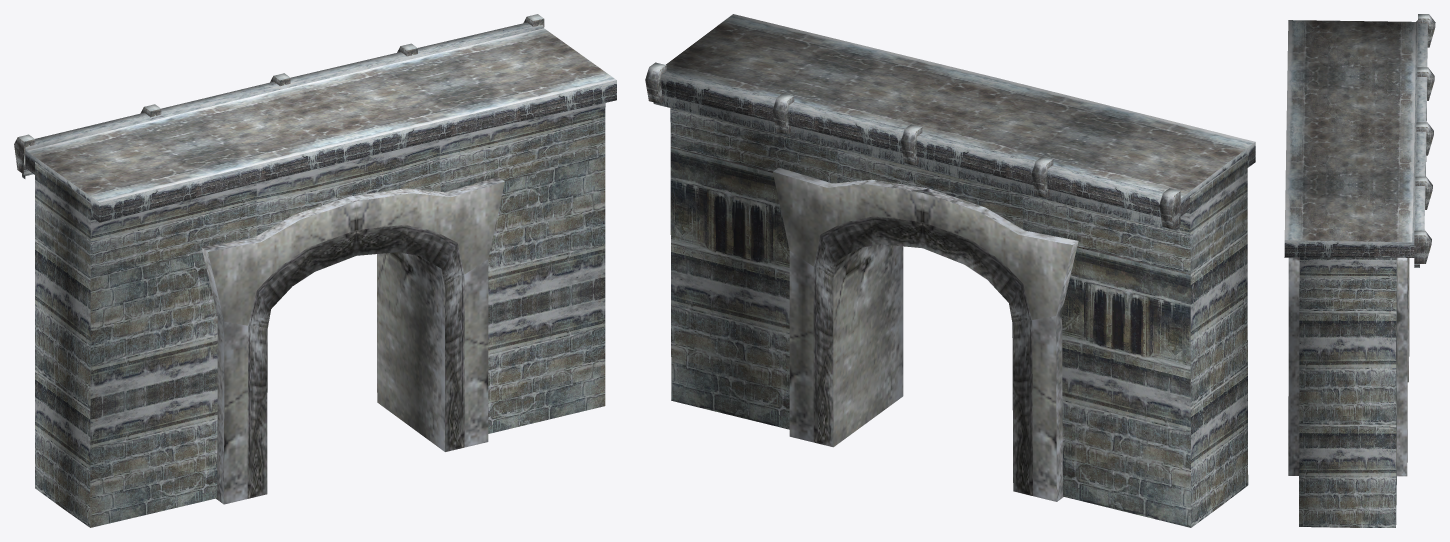
Rendered from S_Build_Snowland149.FBX.
3 views of the same model, side by side, from view 1: azimuth 30°, elevation 25°; view 2: azimuth 150°, elevation 25°; view 3: azimuth 270°, elevation 25° (orthographic). The views are drawn at different scales.
Visible parts, largest first — view 1: S_Build_Snowland149; view 2: S_Build_Snowland149; view 3: S_Build_Snowland149.
Boxes of the visible parts, x1,y1,x2,y2 form: S_Build_Snowland149: (14, 14, 616, 527); S_Build_Snowland149: (645, 14, 1255, 527); S_Build_Snowland149: (1284, 14, 1435, 527).
Size of the model in its own units: 1758 by 510 by 1106.
